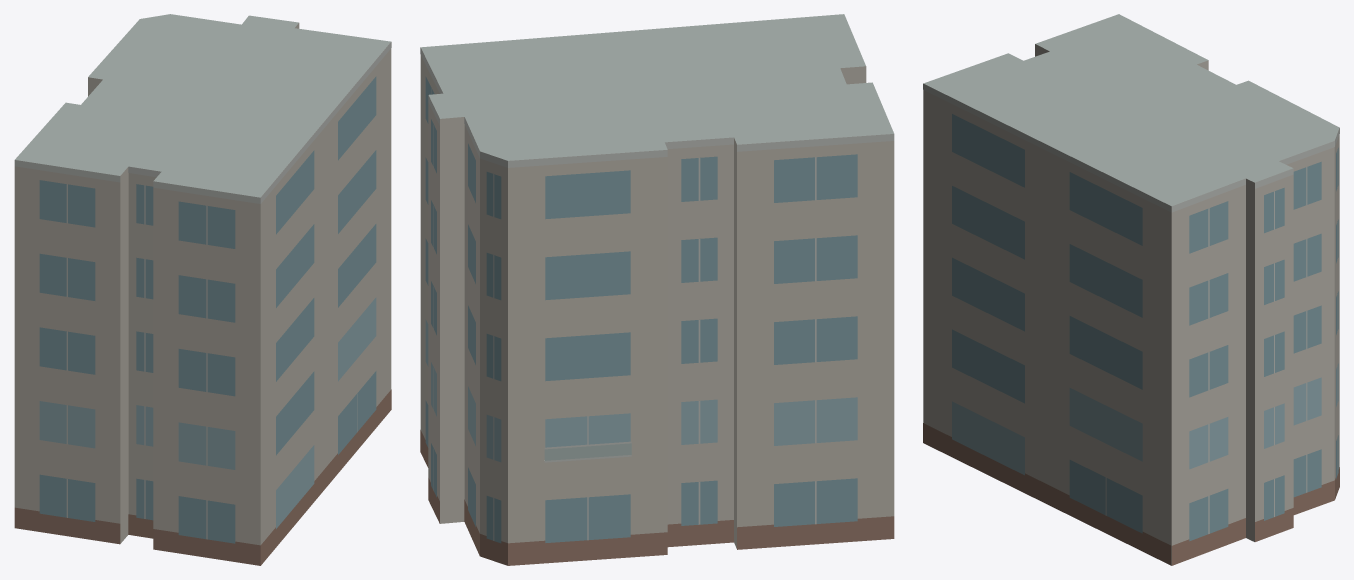
Rendered from survey-upis-32682287.glb.
3 renders of one model, left to right at view 1: azimuth 30°, elevation 25°; view 2: azimuth 150°, elevation 25°; view 3: azimuth 270°, elevation 25°, orthographic. The views are drawn at different scales.
Visible parts, largest first — view 1: survey-upis-32682287.tmp; view 2: survey-upis-32682287.tmp; view 3: survey-upis-32682287.tmp.
Boxes of the visible parts, x1,y1,x2,y2 form: survey-upis-32682287.tmp: (14, 14, 391, 565); survey-upis-32682287.tmp: (420, 14, 894, 565); survey-upis-32682287.tmp: (923, 14, 1339, 565).
Size of the model in its own units: 16.07 by 14 by 14.71.
